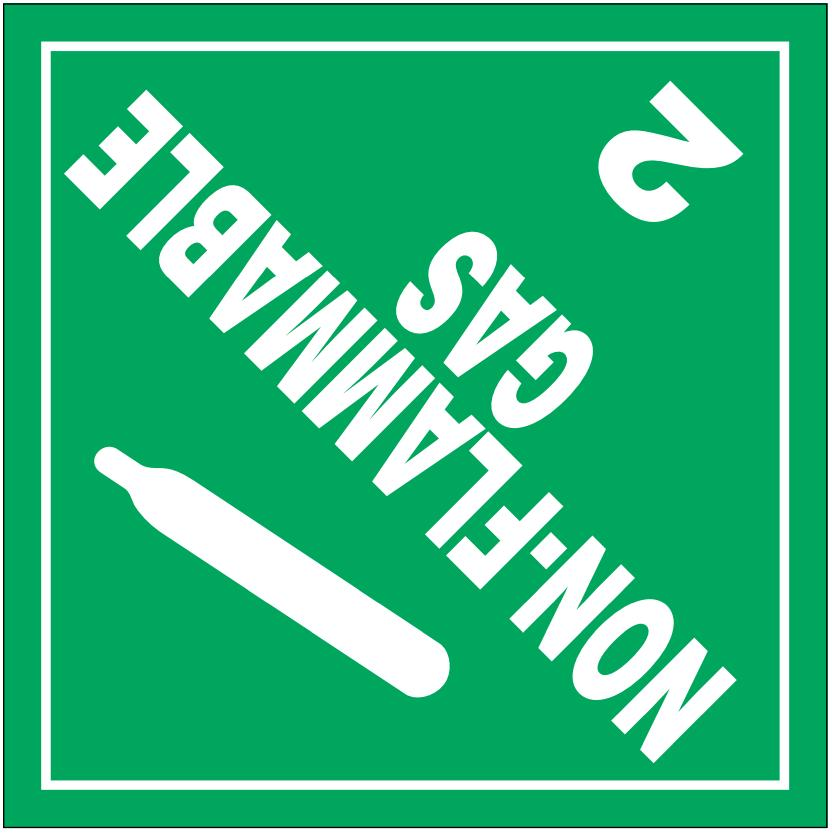non-flammable-gas: (1, 1, 832, 836)
